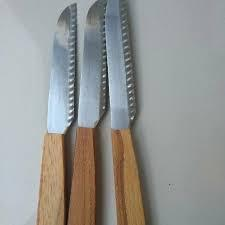knives: (39, 6, 162, 225)
